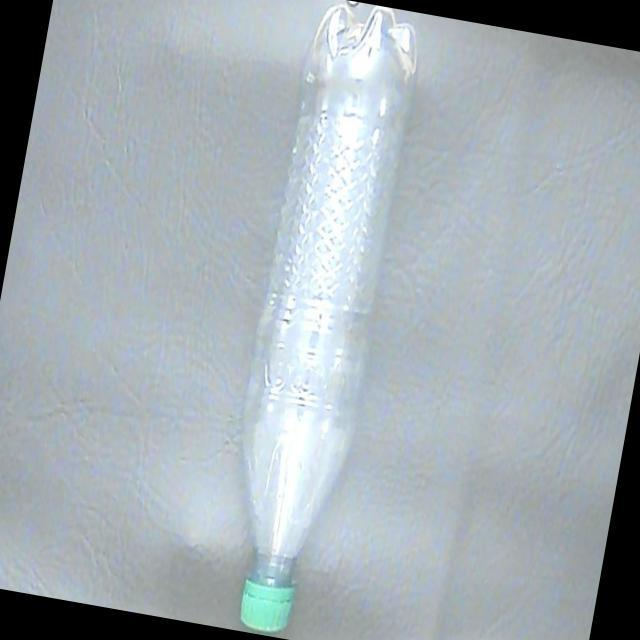good: (197, 0, 428, 636)
